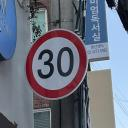speed_limit_30: (24, 26, 89, 102)
